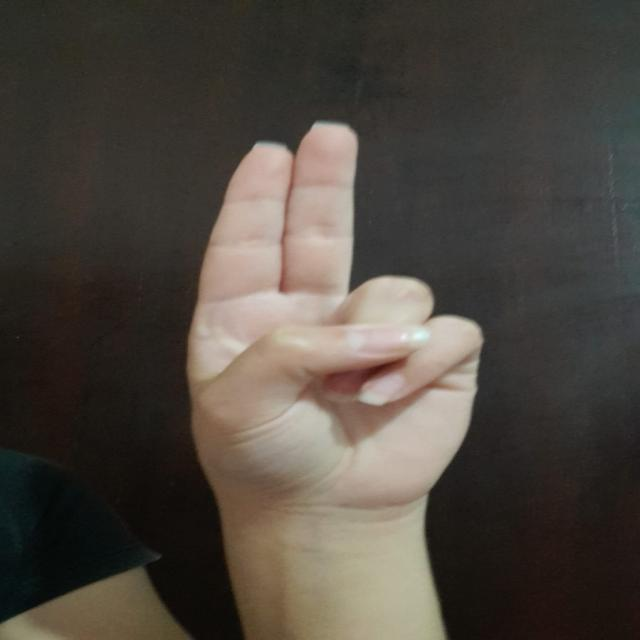U: (164, 106, 502, 510)
